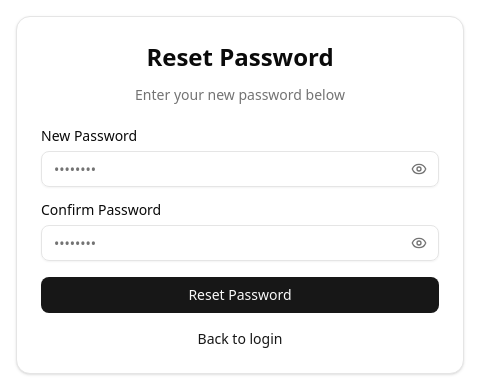
ResetPasswordPage › shows loading state while request is in flight
This screenshot has width=481, height=392.
In the password field labelled "New Password": coordinates (240, 169) top-left (41, 151), bottom-right (439, 187), type "Password1"
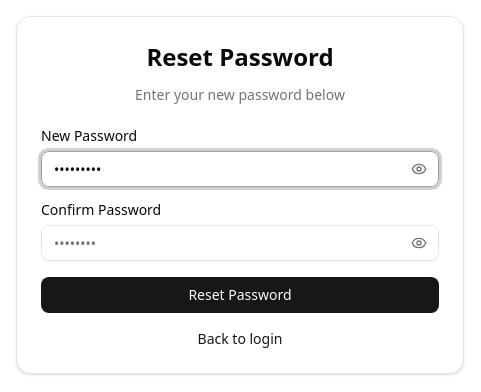
In the password field labelled "Confirm Password": coordinates (240, 243) top-left (41, 225), bottom-right (439, 261), type "Password1"
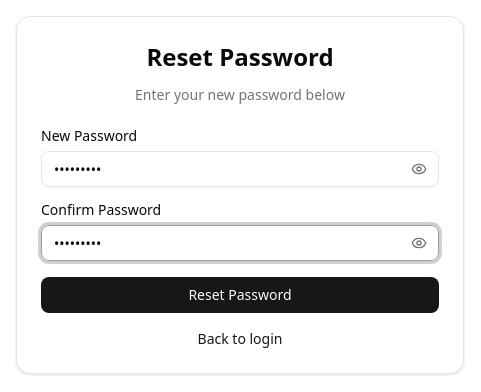
Click the button "Reset Password": coordinates (240, 295) top-left (41, 277), bottom-right (439, 313)
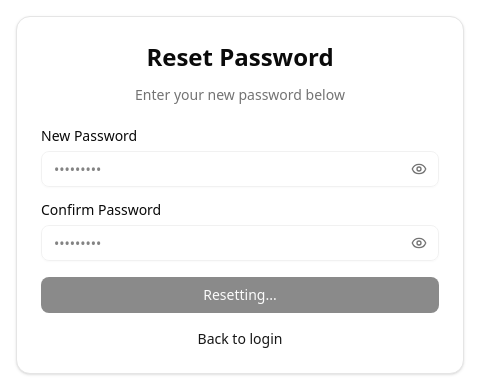
expect the button "Resetting..." is disabled: met, box top-left (41, 277), bottom-right (439, 313)
